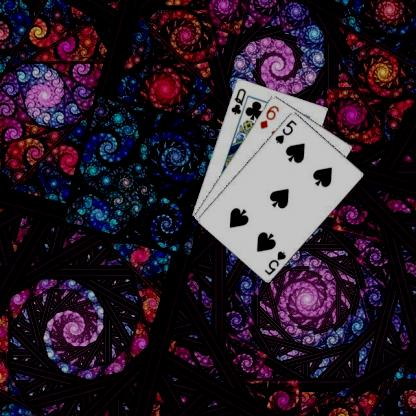5S: (272, 117, 298, 145), (262, 248, 288, 276)
6D: (257, 102, 281, 130)
QC: (228, 86, 247, 116)
